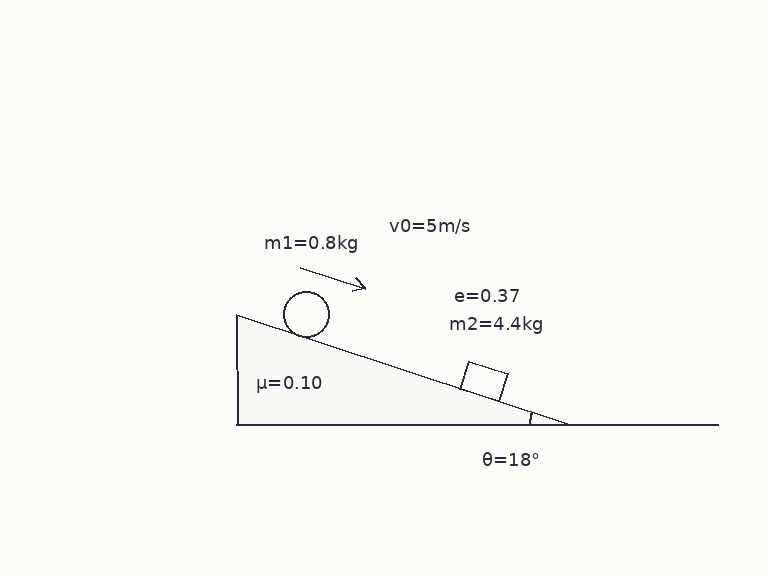ball: (281, 289, 331, 339)
block: (459, 359, 509, 403)
ramp: (234, 314, 572, 426)
